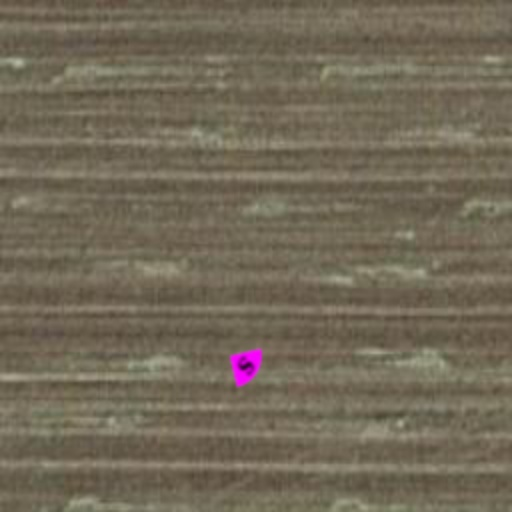quarter_circle: (216, 336, 276, 396)
